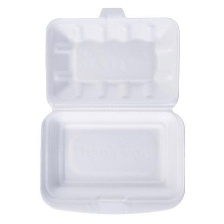foam_box: (33, 0, 192, 219)
